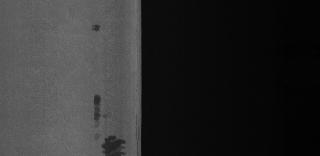oil spot: (92, 91, 105, 142), (102, 134, 128, 156), (91, 20, 99, 32)
